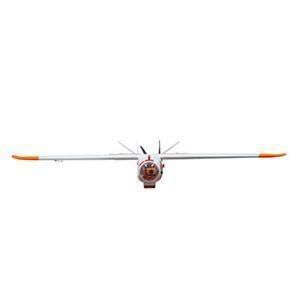Airplane: (8, 130, 292, 192)
